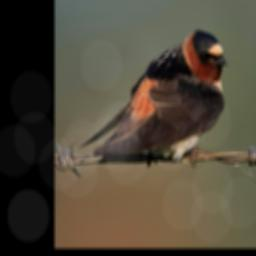Swallow: (78, 27, 228, 167)
